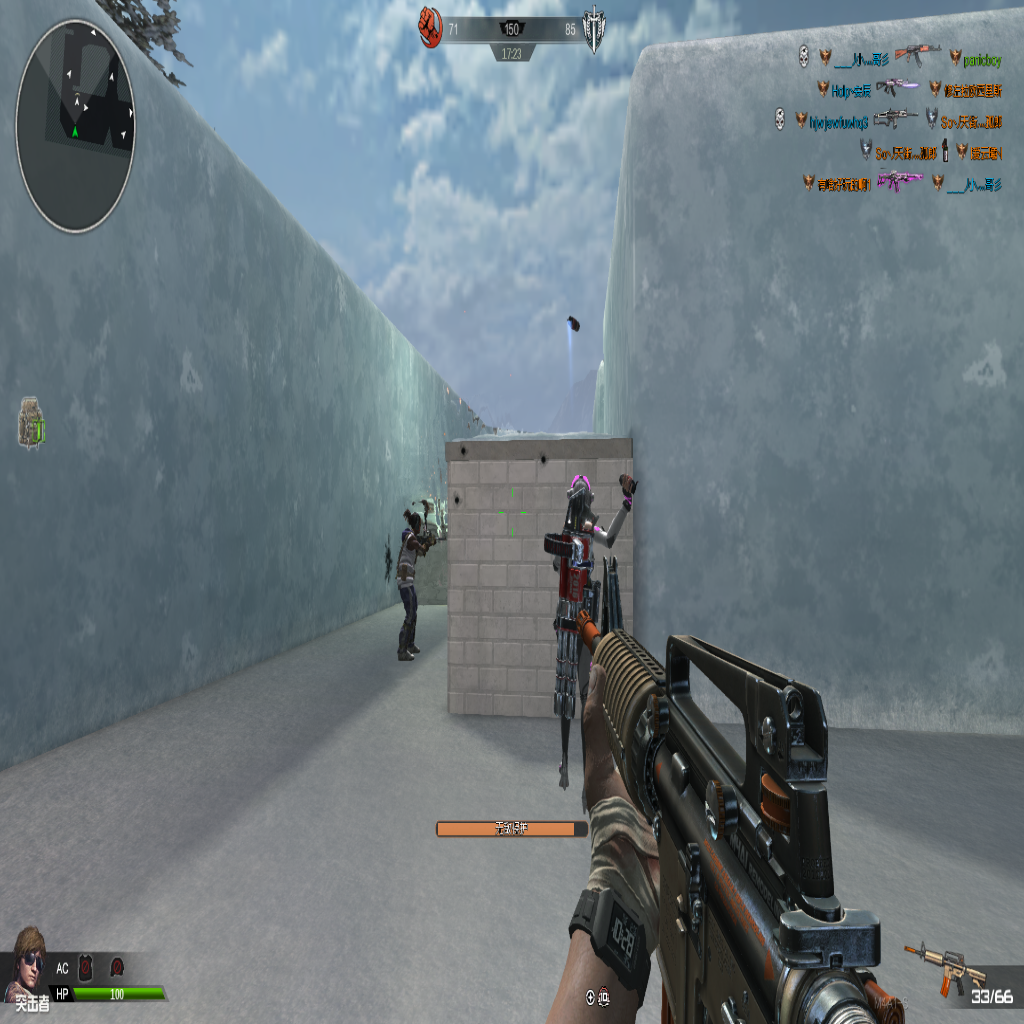tt: (396, 497, 442, 663)
